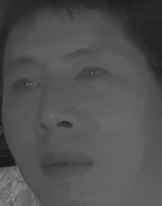eye: (71, 65, 112, 86), (8, 77, 43, 94)
mouth: (39, 148, 96, 180)
